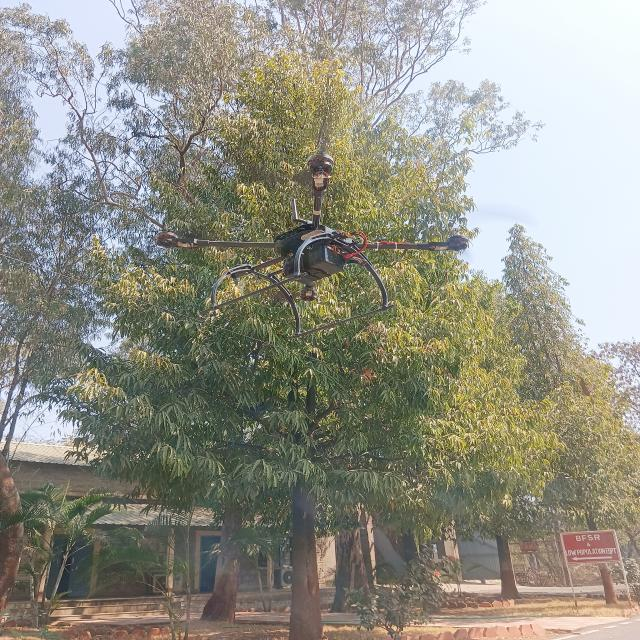drone: (128, 116, 504, 335)
